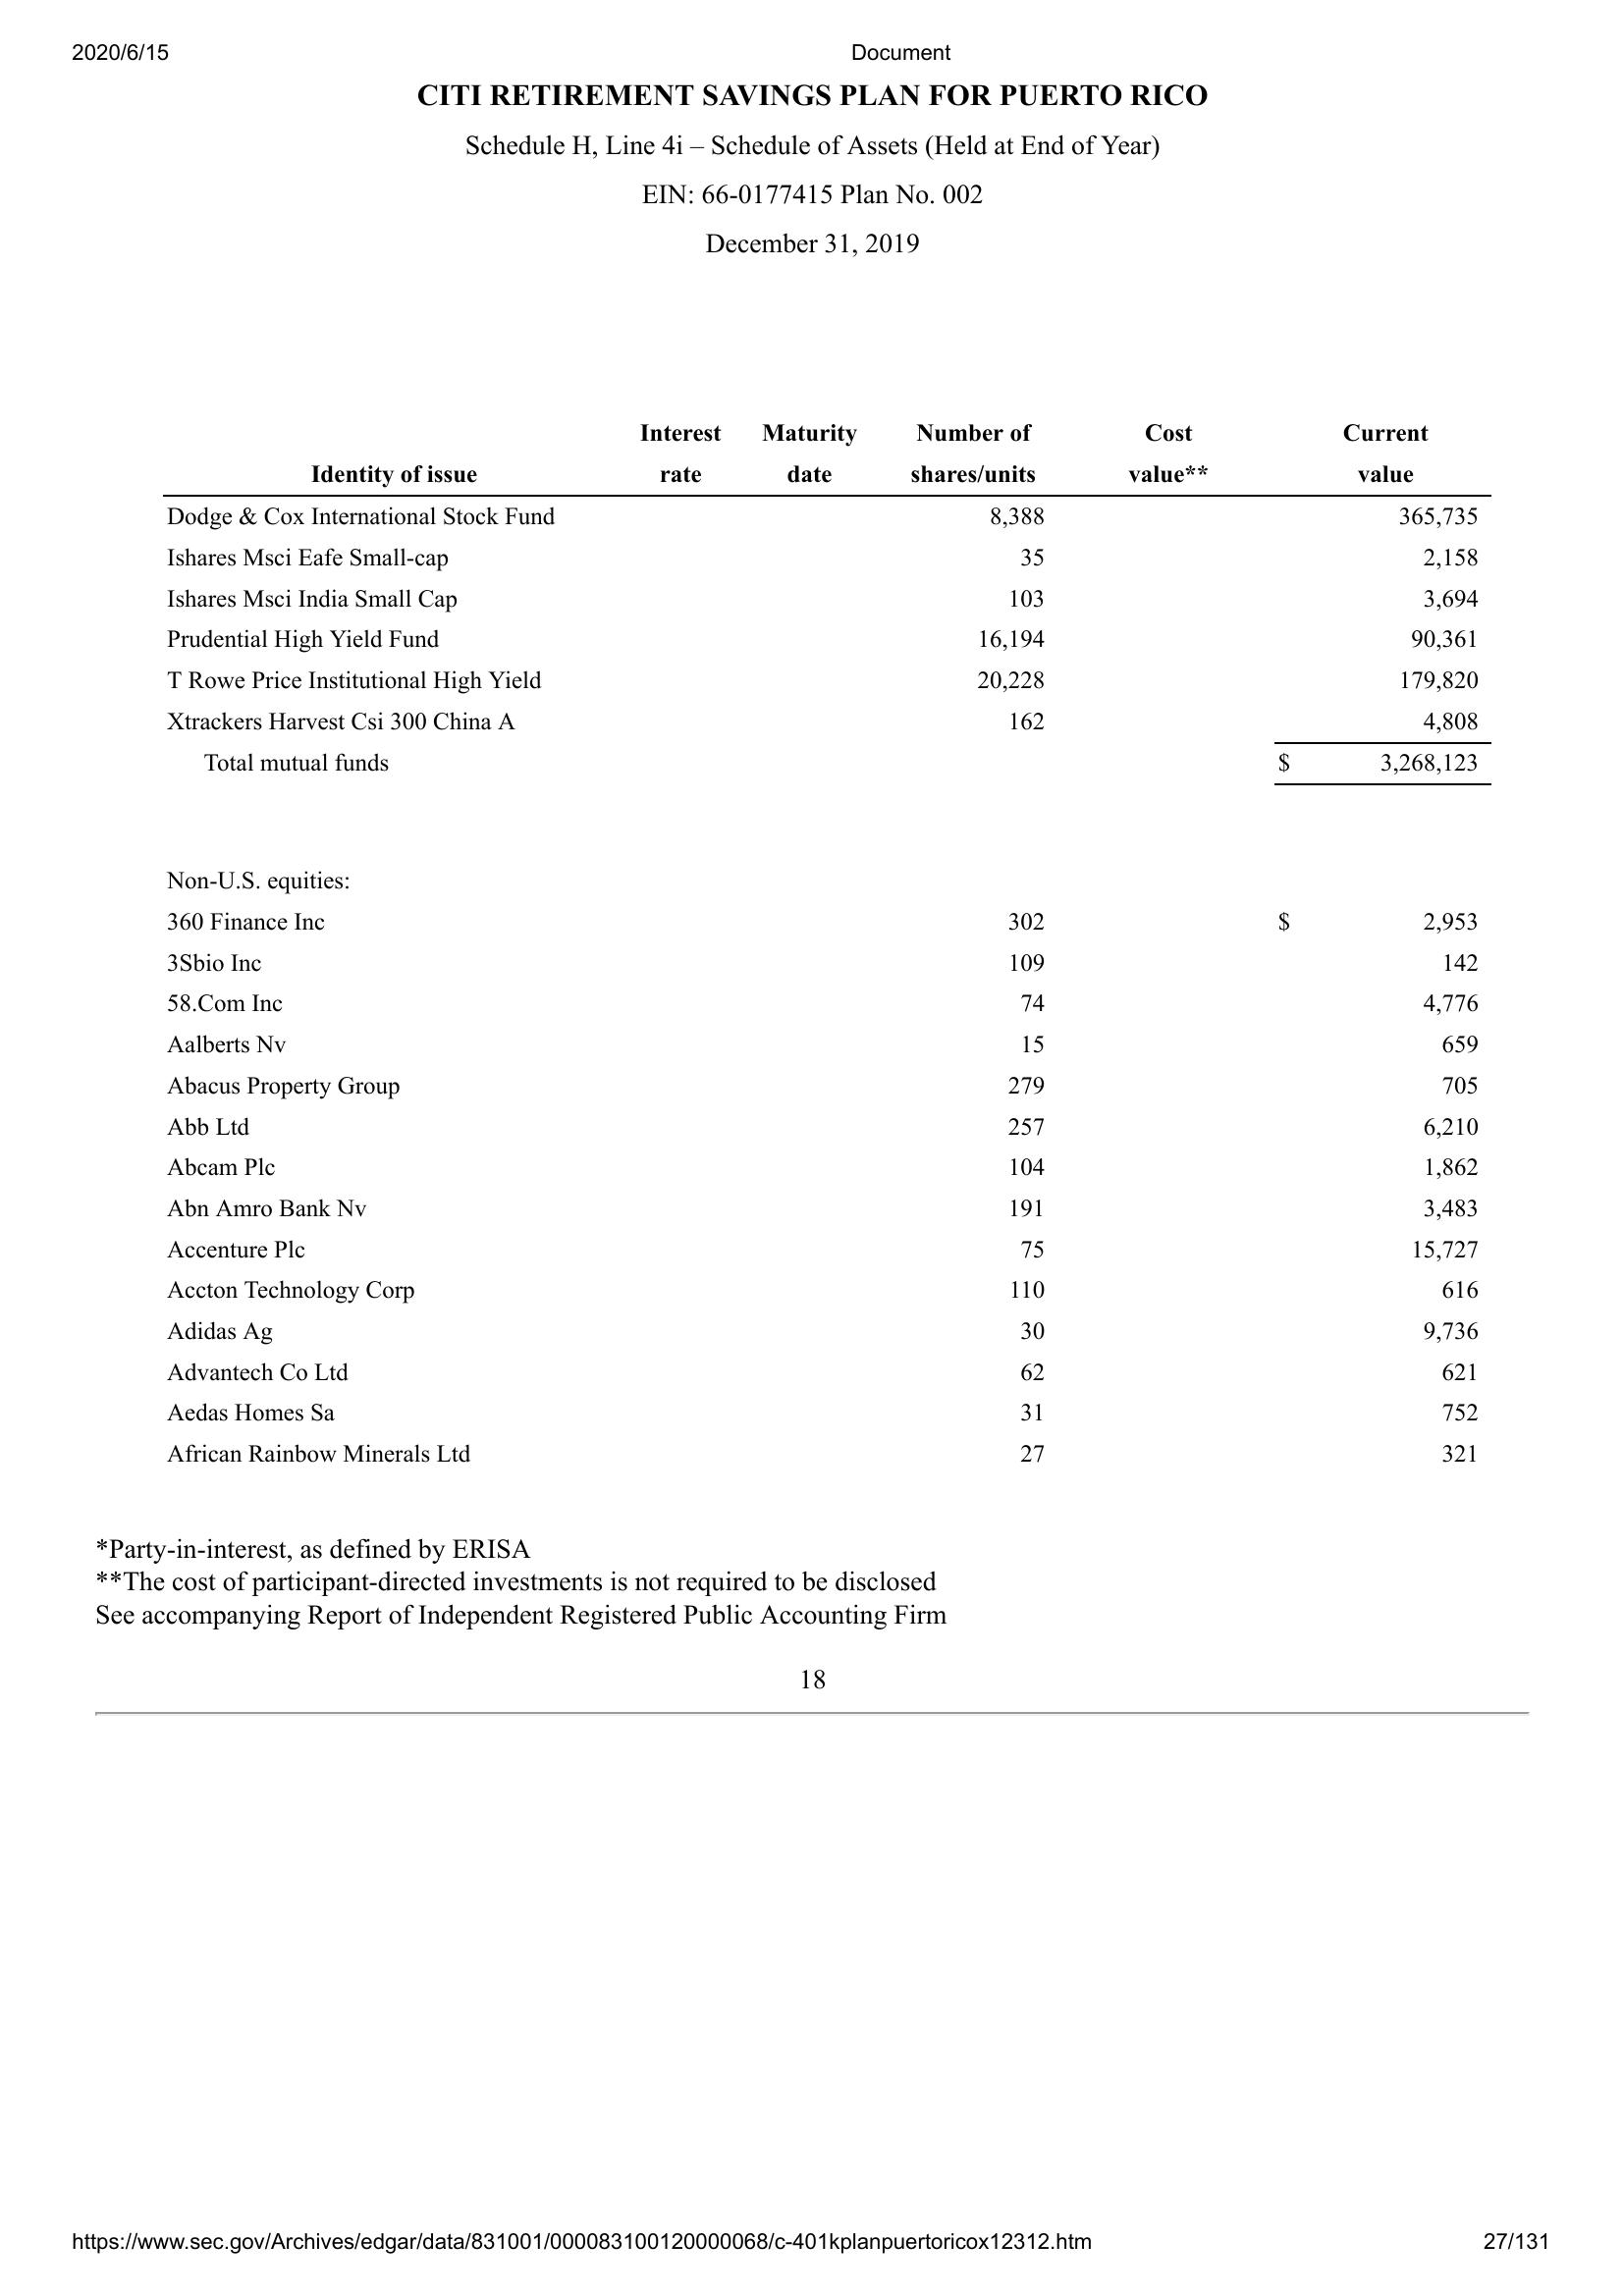table: (151, 416, 1488, 1469)
